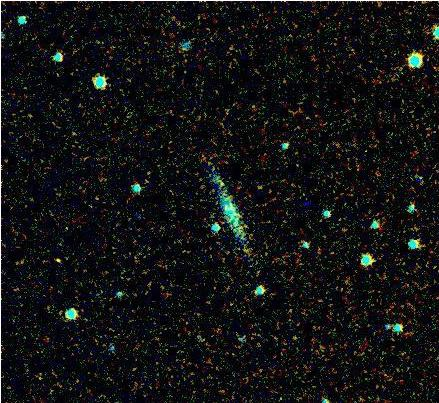star: (41, 245, 71, 275)
